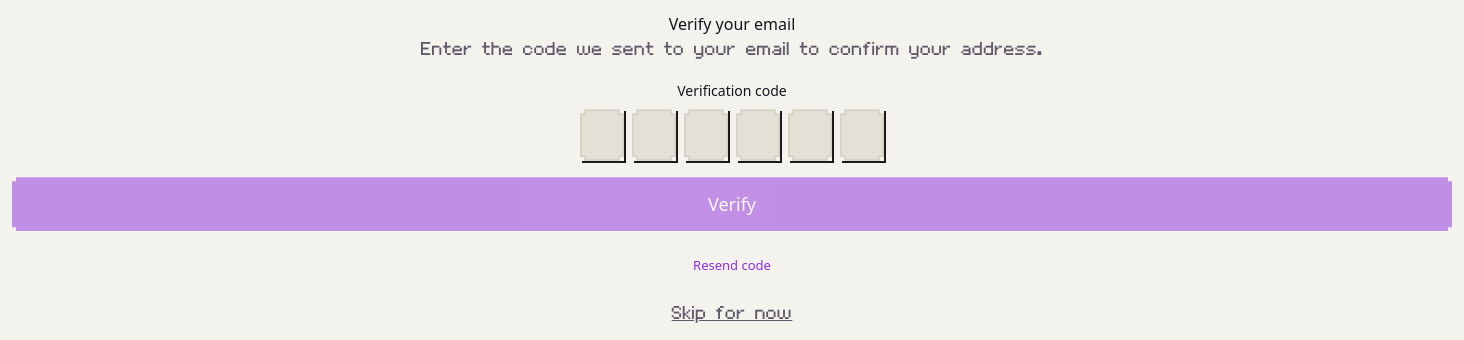
Test: VerifyCodeForm › typing 6 digits enables submit and auto-advances focus
Type "0" into the field labelled "Verification code" at x=602, y=135, box [580,109,624,161]
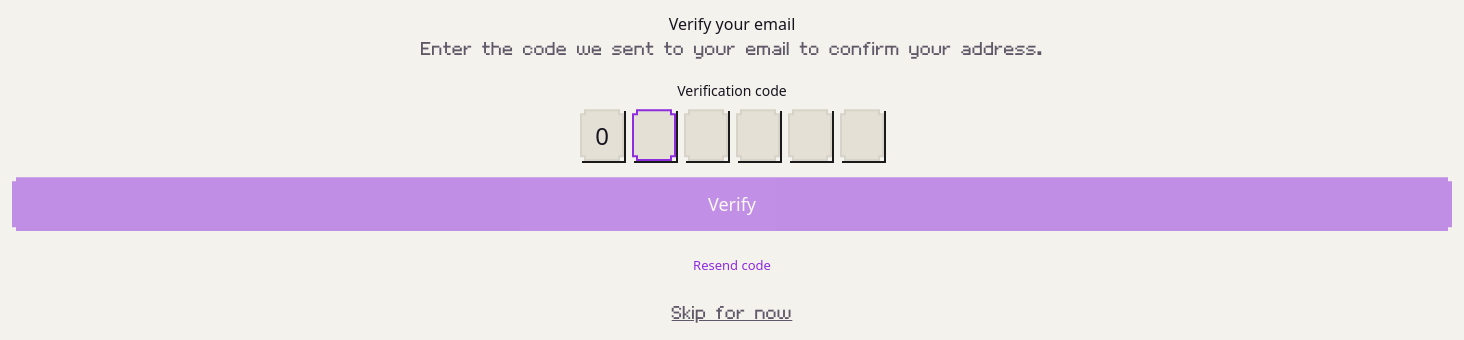
Type "1" into the field named "Digit 2" at x=654, y=135, box [632,109,676,161]
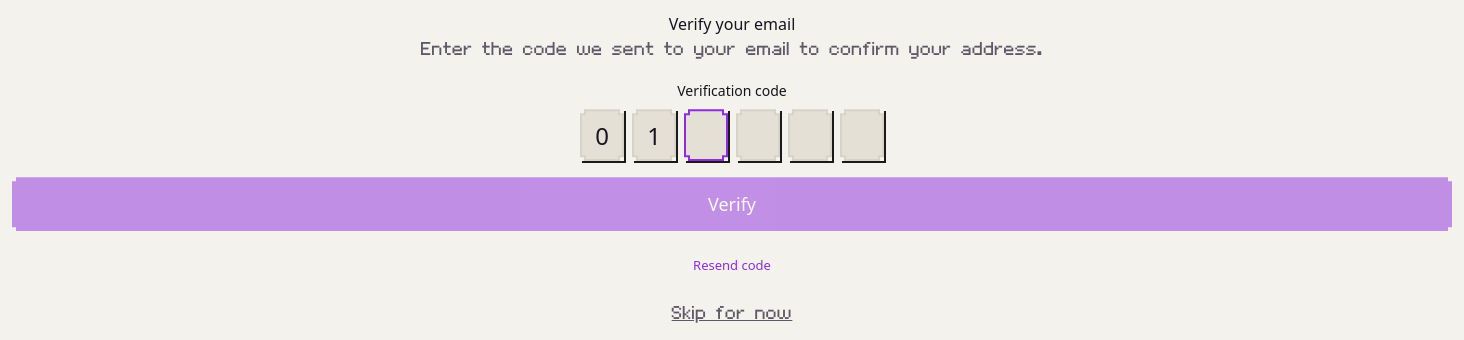
Type "2" into the field named "Digit 3" at x=706, y=135, box [684,109,728,161]
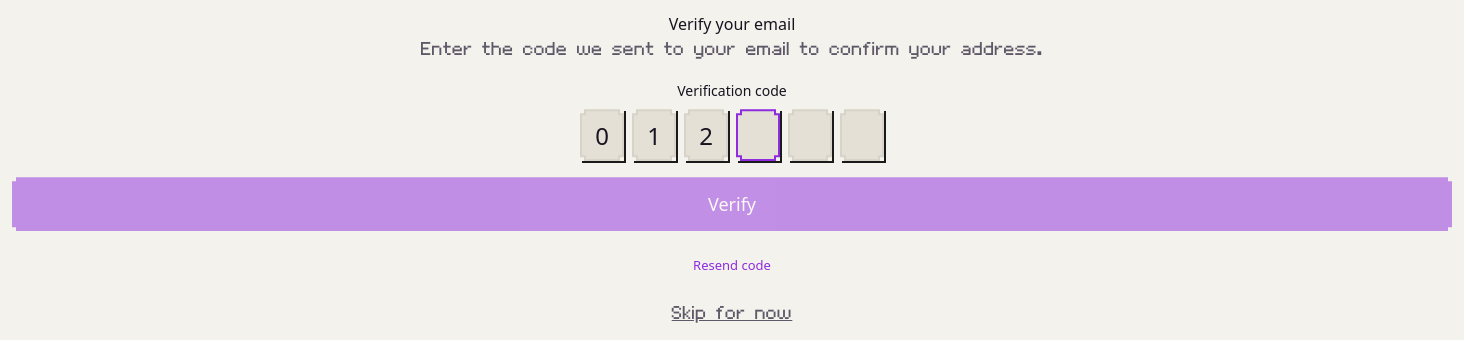
Type "3" into the field named "Digit 4" at x=758, y=135, box [736,109,780,161]
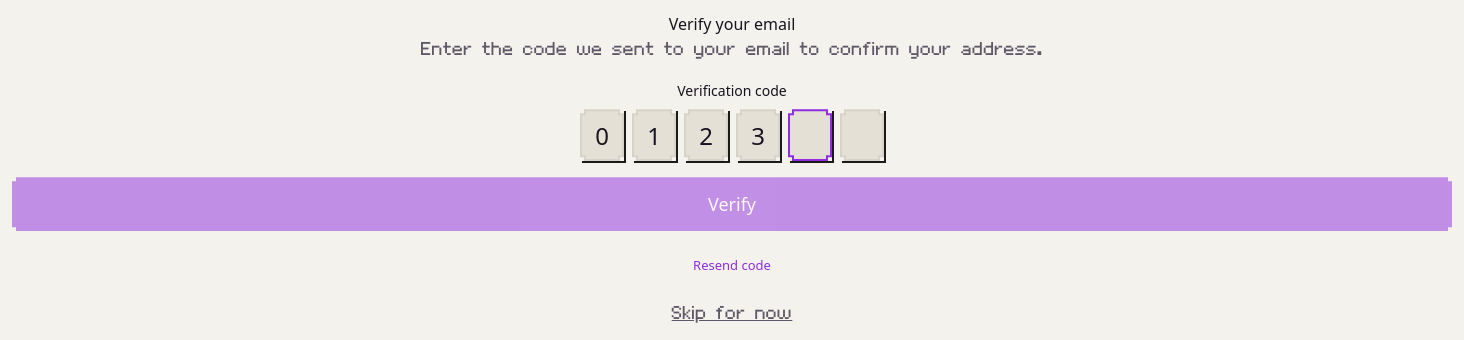
Type "4" into the field named "Digit 5" at x=810, y=135, box [788,109,832,161]
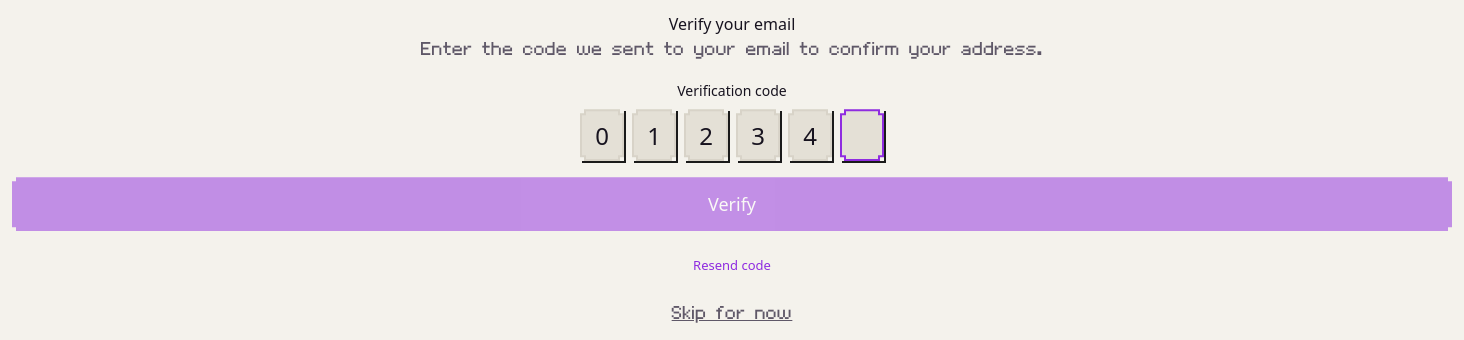
Type "5" into the field named "Digit 6" at x=862, y=135, box [840,109,884,161]
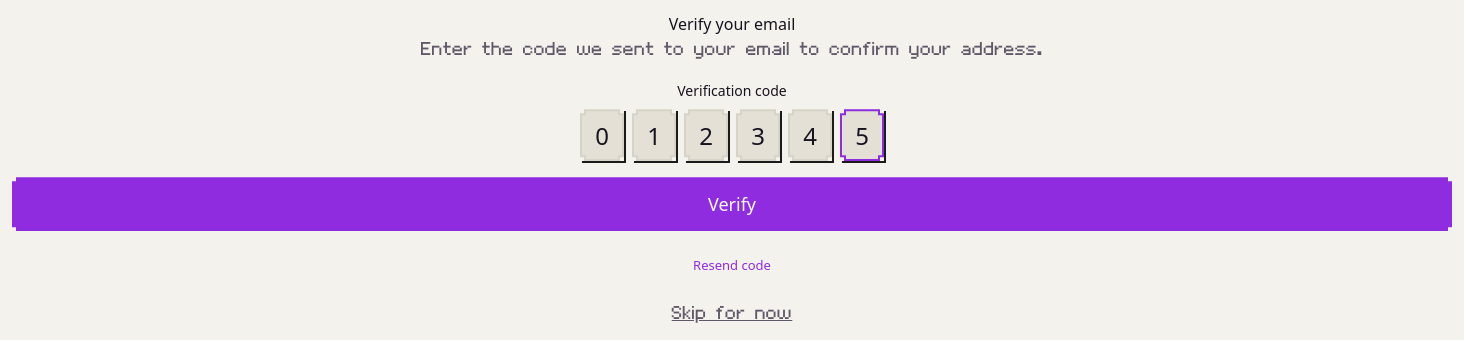
Now the button with aria-label "submit" is enabled, box [12,177,1452,231]
